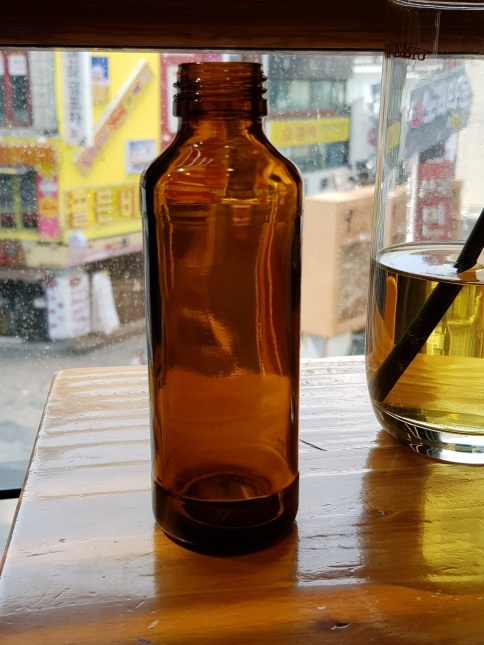Glass: (139, 57, 308, 557)
